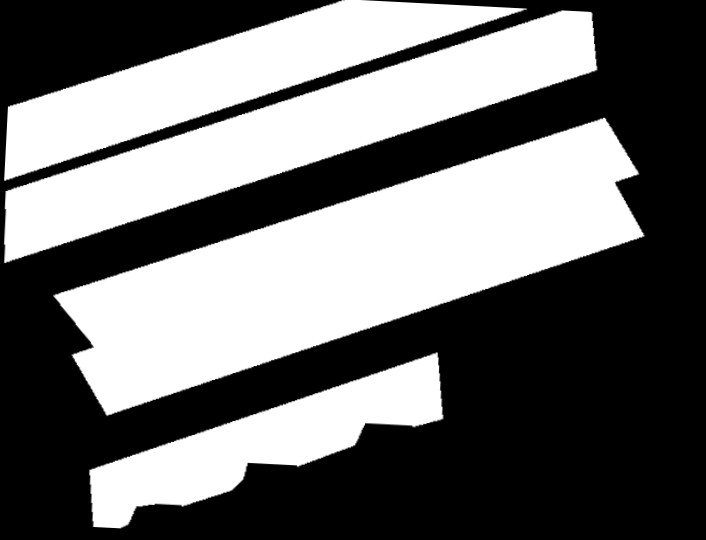parkingspot: (53, 118, 644, 416), (4, 10, 597, 263), (4, 0, 527, 181), (89, 352, 443, 528)
